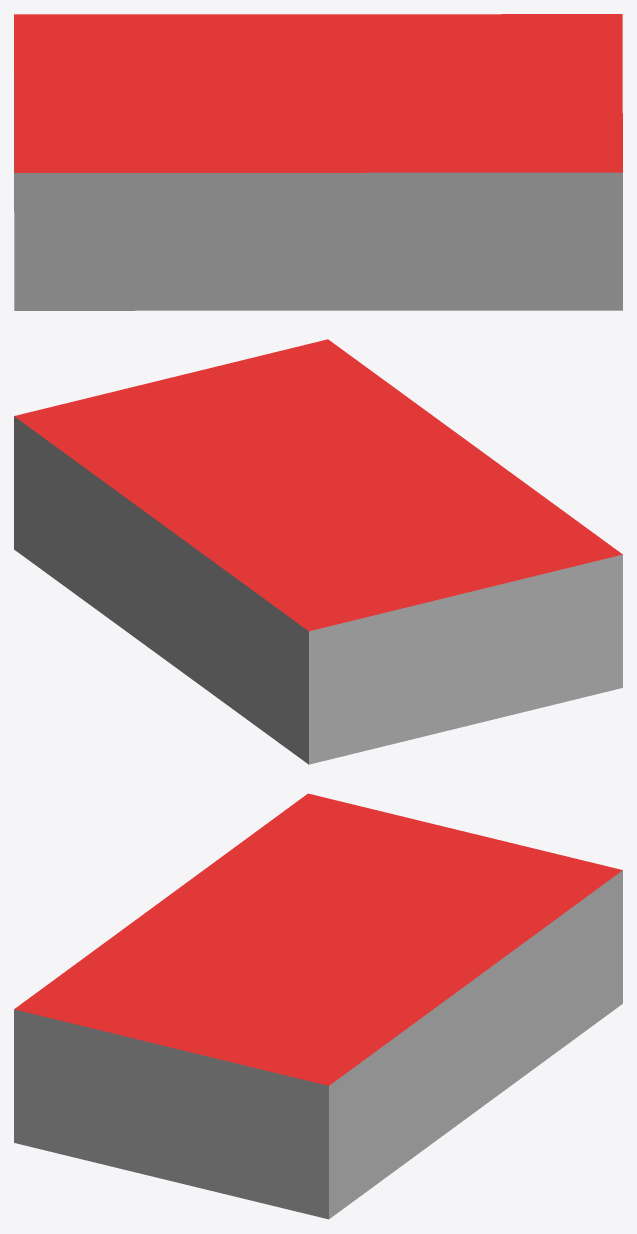
The model's file is pb-9635c0fe-7f36-11f0-b190-9c7bef4dcf4c.dae.
3 renders of one model, top to bottom at view 1: azimuth 30°, elevation 25°; view 2: azimuth 150°, elevation 25°; view 3: azimuth 270°, elevation 25°, orthographic. The views are drawn at different scales.
Bounding box in the file's own units: 70.46 × 62 × 15.
